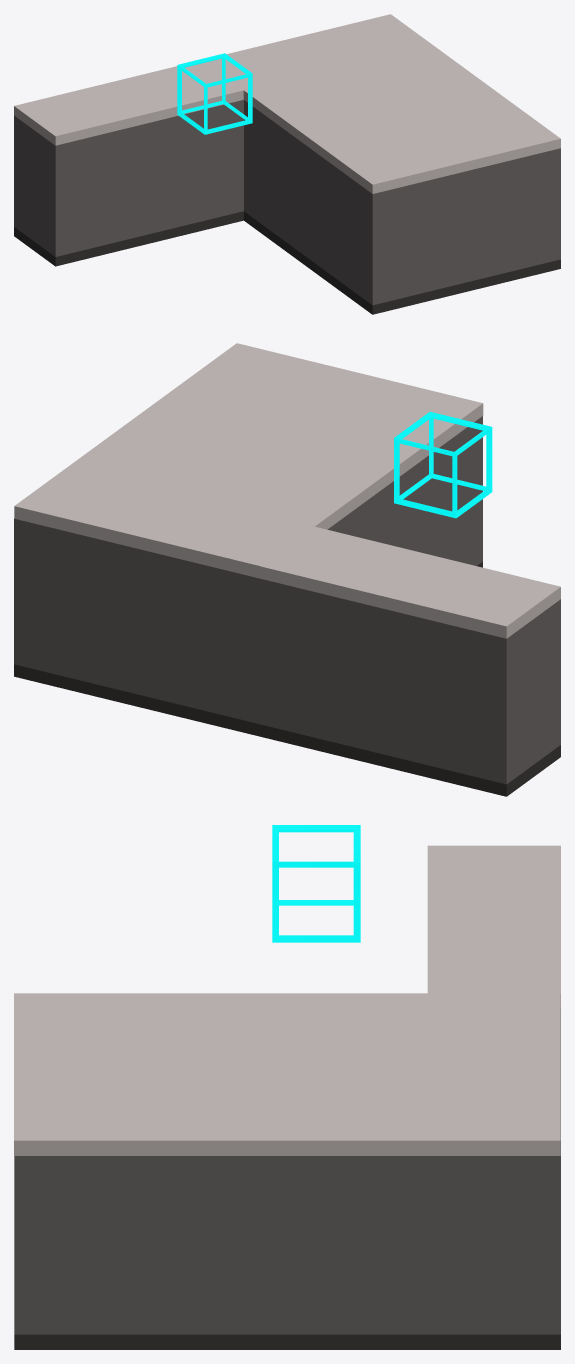
File: Archive room.fbx
3 views of the same model, one above another, from view 1: azimuth 30°, elevation 25°; view 2: azimuth 150°, elevation 25°; view 3: azimuth 270°, elevation 25° (orthographic). The views are drawn at different scales.
Parts seen in each view (by area): view 1: Cube.021, Cube.030, Cube.008, Cube.007, Cube.029, Cube.031, Cube.006, Cube.028, Cube.016, Cube.009; view 2: Cube.009, Cube.021, Cube.029, Cube.007, Cube.031, Cube.028, Cube.016, Cube.006, Cube.030; view 3: Cube.010, Cube.021, Cube.029, Cube.006, Cube.016, Cube.008, Cube.009.
Part boxes in pixels (bbox=[...]): Cube.021: bbox=[206, 14, 560, 193]; Cube.030: bbox=[50, 100, 243, 256]; Cube.008: bbox=[381, 148, 560, 302]; Cube.007: bbox=[244, 100, 381, 305]; Cube.029: bbox=[14, 62, 243, 145]; Cube.031: bbox=[19, 119, 50, 252]; Cube.006: bbox=[244, 211, 560, 314]; Cube.028: bbox=[14, 211, 243, 266]; Cube.016: bbox=[177, 53, 252, 134]; Cube.009: bbox=[14, 115, 19, 230]; Cube.009: bbox=[14, 518, 513, 784]; Cube.021: bbox=[14, 343, 483, 578]; Cube.029: bbox=[260, 526, 560, 638]; Cube.007: bbox=[327, 416, 482, 565]; Cube.031: bbox=[513, 604, 554, 778]; Cube.028: bbox=[260, 724, 560, 796]; Cube.016: bbox=[394, 411, 492, 518]; Cube.006: bbox=[14, 561, 482, 736]; Cube.030: bbox=[554, 599, 560, 749]; Cube.010: bbox=[31, 1156, 544, 1334]; Cube.021: bbox=[14, 993, 560, 1155]; Cube.029: bbox=[427, 845, 560, 1007]; Cube.006: bbox=[14, 1334, 560, 1349]; Cube.016: bbox=[272, 825, 360, 942]; Cube.008: bbox=[14, 1156, 31, 1334]; Cube.009: bbox=[544, 1008, 560, 1334].
Size of the model in its own units: 1625 by 793 by 1273.
